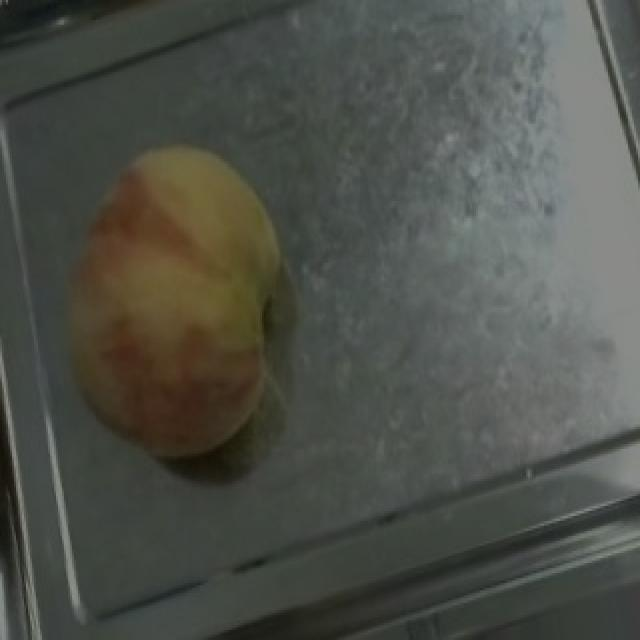Fruit: (26, 114, 332, 496)
